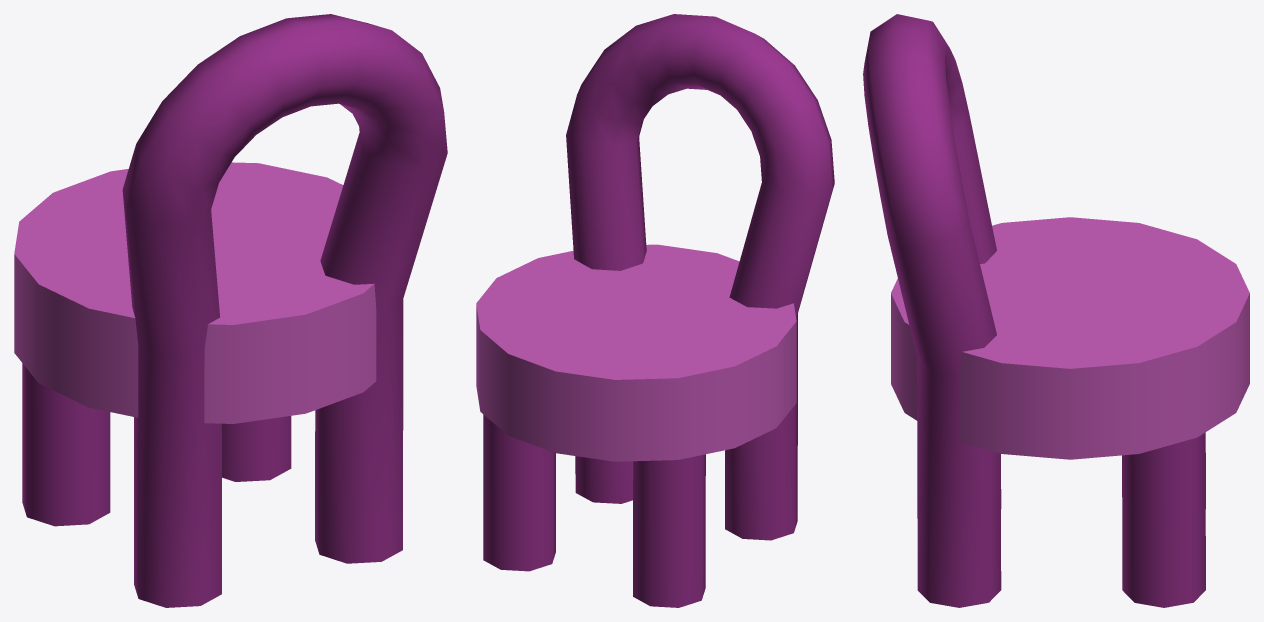
File: chair01_s03.FBX
3 views of the same model, side by side, from view 1: azimuth 30°, elevation 25°; view 2: azimuth 150°, elevation 25°; view 3: azimuth 270°, elevation 25° (orthographic). The views are drawn at different scales.
Parts seen in each view (by area): view 1: chair01_s03; view 2: chair01_s03; view 3: chair01_s03.
Part boxes in pixels (x1,y1,x2,y2): chair01_s03: (14, 14, 447, 607); chair01_s03: (476, 14, 834, 607); chair01_s03: (863, 14, 1249, 607).
Size of the model in its own units: 73.21 by 78.88 by 117.
Materials: 1 (1 with a texture image).
